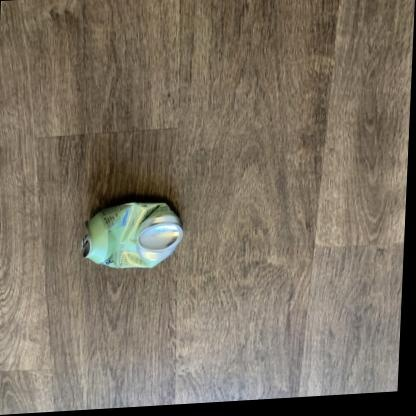trash: (83, 202, 182, 267)
